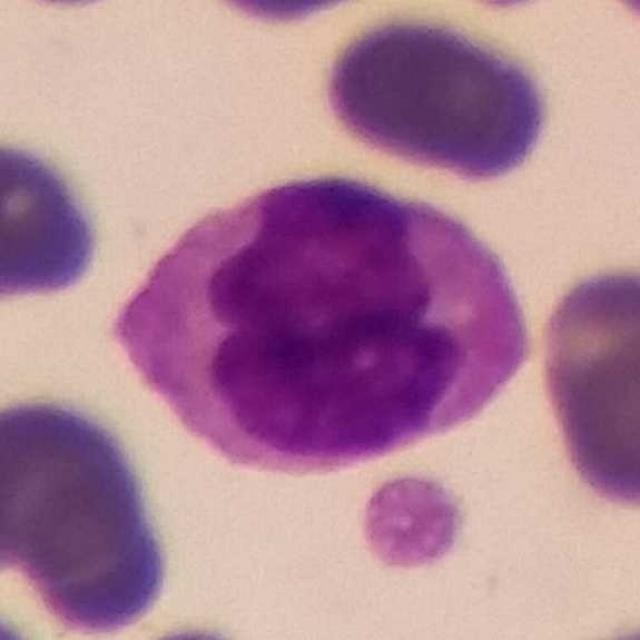Monocyte: (123, 182, 541, 468)
Platelets: (355, 465, 472, 579)
RBC: (322, 26, 560, 178), (0, 395, 139, 583), (15, 479, 175, 633), (0, 131, 109, 312), (540, 259, 640, 435), (552, 334, 640, 516), (209, 0, 361, 31)
